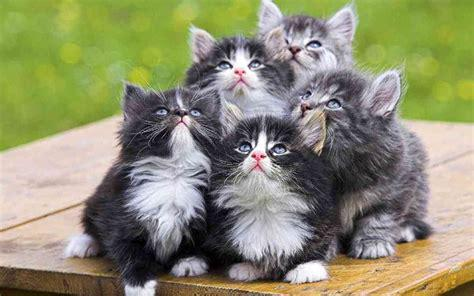cat: (66, 79, 219, 296), (293, 67, 425, 259), (218, 97, 334, 282), (186, 24, 290, 126), (258, 1, 355, 90)
